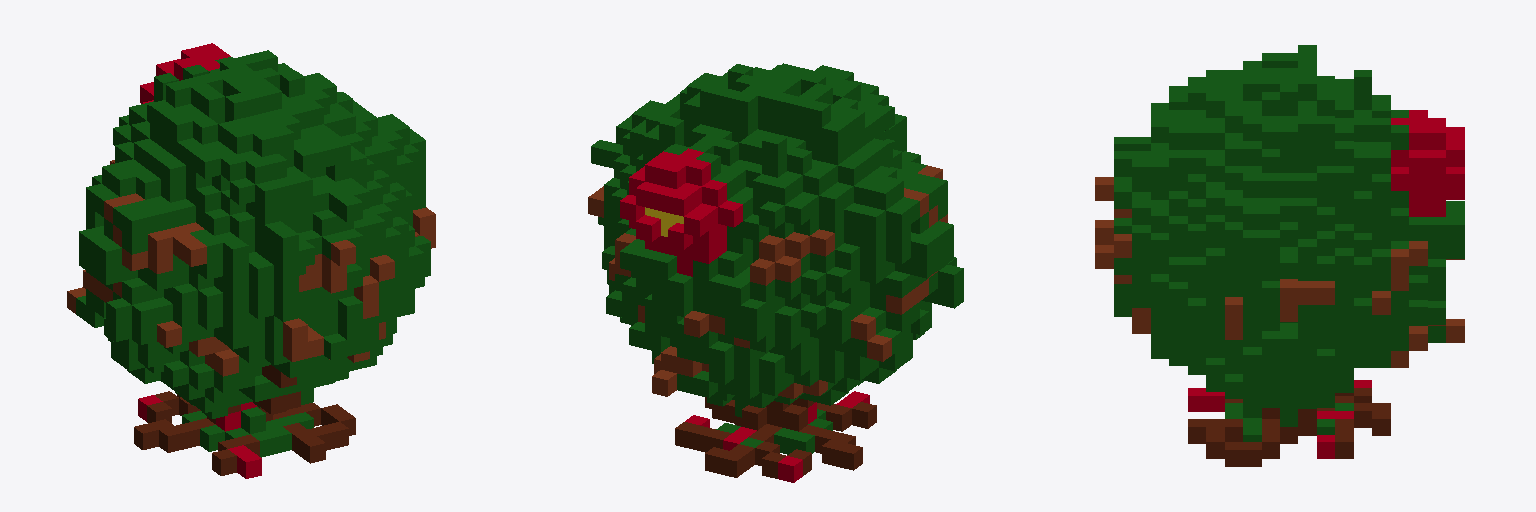
3 renders of one model, left to right at view 1: azimuth 30°, elevation 25°; view 2: azimuth 150°, elevation 25°; view 3: azimuth 270°, elevation 25°, orthographic.
Visible parts, largest first — view 1: object 1; view 2: object 1; view 3: object 1.
Part boxes in pixels (x1,y1,x2,y2): object 1: (67, 43, 435, 478); object 1: (588, 63, 963, 482); object 1: (1095, 45, 1464, 466).
Bounding box in the file's own units: 2.1 × 2.1 × 2.
Materials: 1 (1 with a texture image).